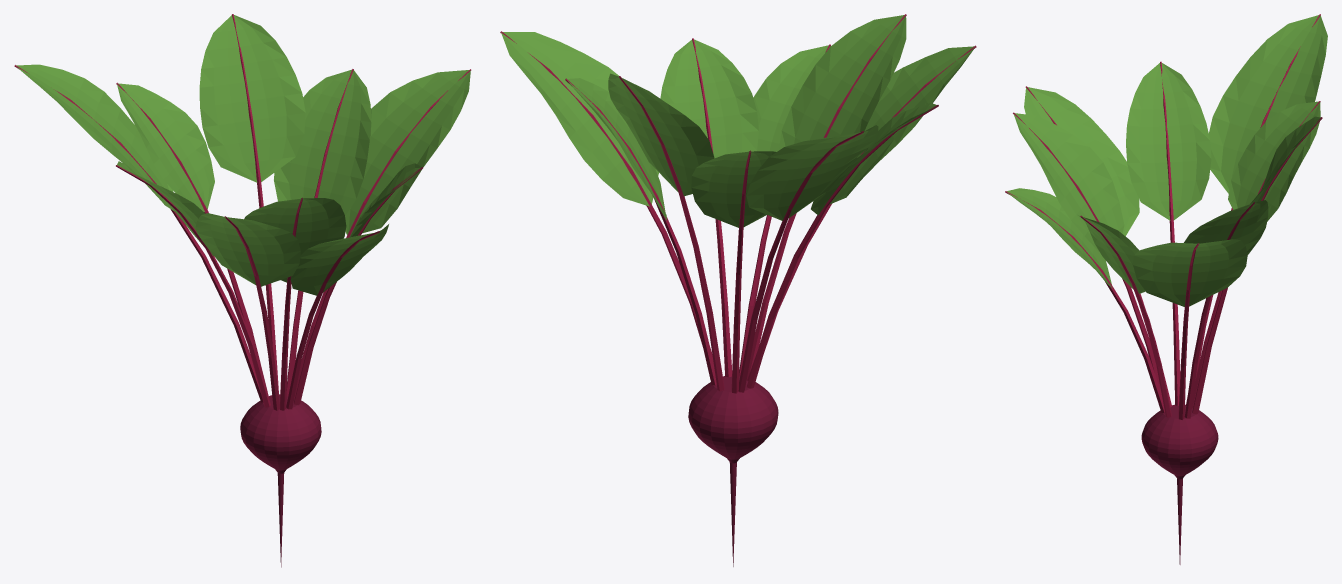
File: beetroot_harvest_v12.glb
The picture shows the model from 3 angles, left to right: view 1: azimuth 30°, elevation 25°; view 2: azimuth 150°, elevation 25°; view 3: azimuth 270°, elevation 25°; orthographic projection. The views are drawn at different scales.
Parts seen in each view (by area): view 1: plant; view 2: plant; view 3: plant.
Boxes of the visible parts, x1=… form: plant: x1=14, y1=14, x2=471, y2=567; plant: x1=500, y1=14, x2=976, y2=566; plant: x1=1005, y1=14, x2=1327, y2=564.
Size of the model in its own units: 0.3857 by 0.4673 by 0.2923.
1 material, 1 textured.
